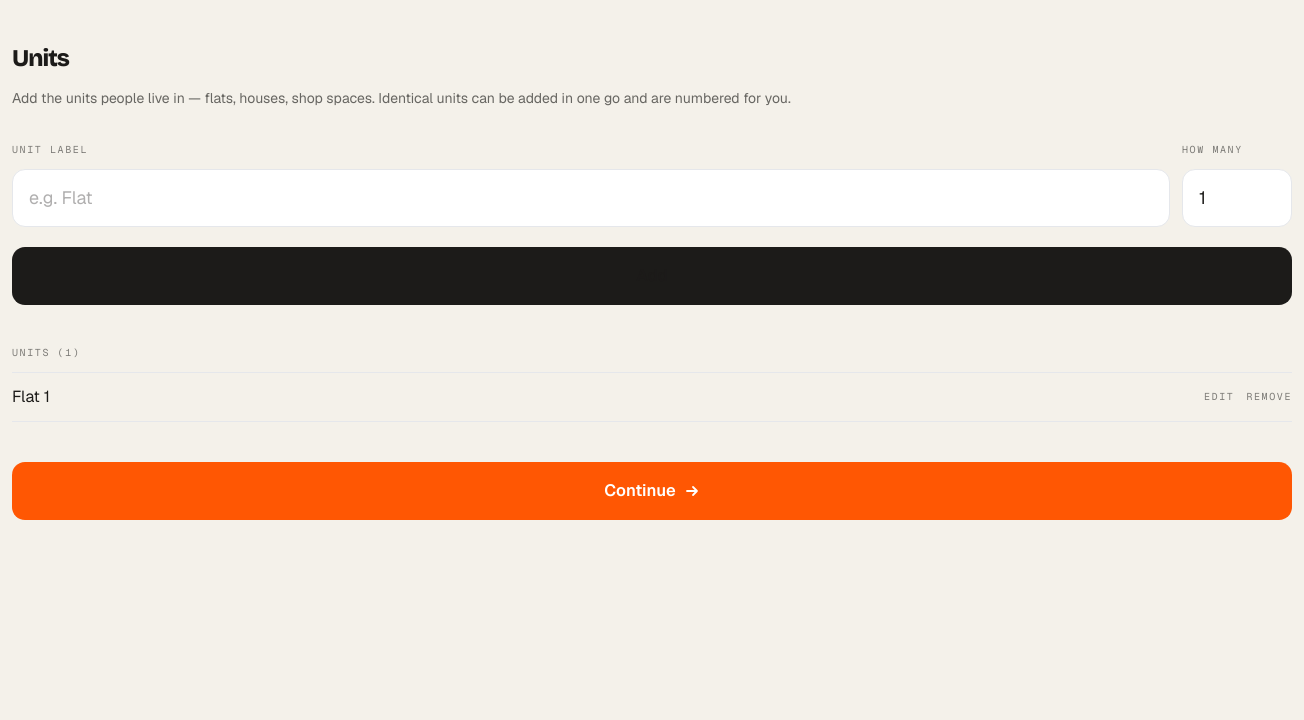
CommunityUnitsStep › retries once after a 409 conflict by refetching and renumbering
Expected: the heading "Units (1)" is shown, left=12, top=346, right=80, bottom=359
Type "Flat" into the field labelled "Unit label".
click(591, 198); type("Flat")  # box left=12, top=169, right=1170, bottom=227
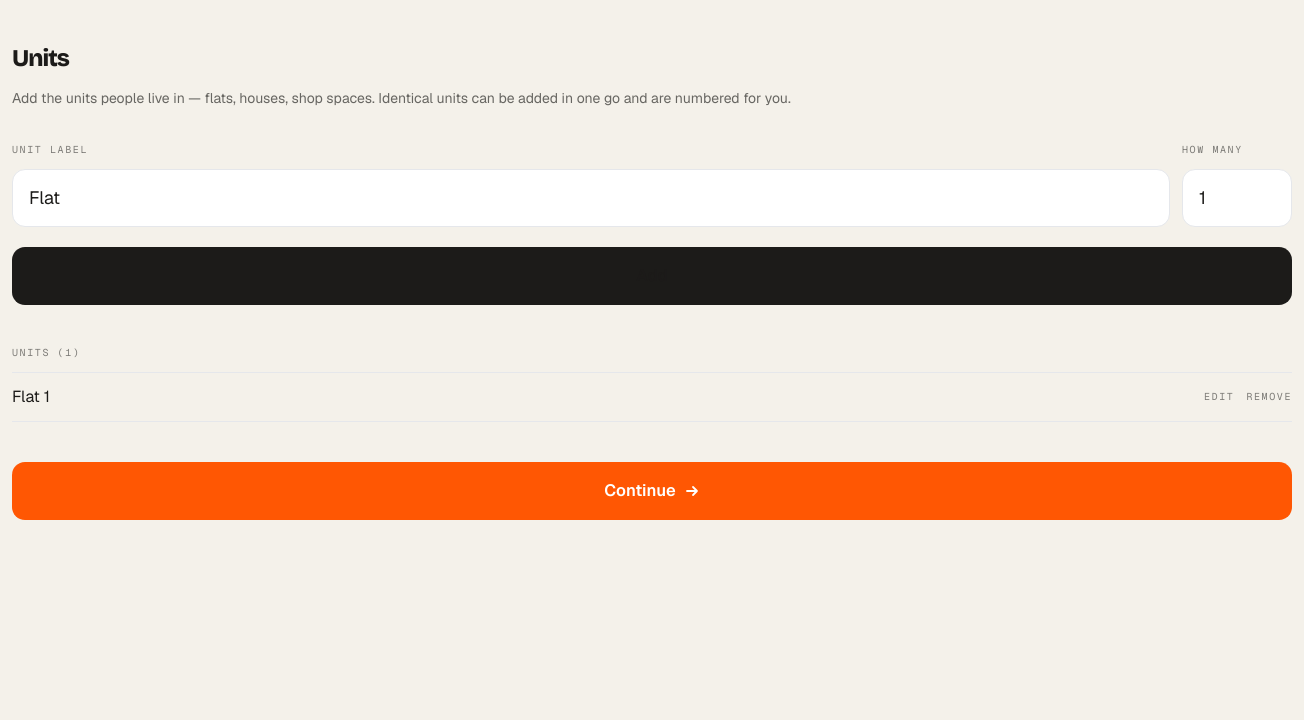
Replace the text in the number field labelled "How many" with "2" at (1237, 198), box left=1182, top=169, right=1292, bottom=227
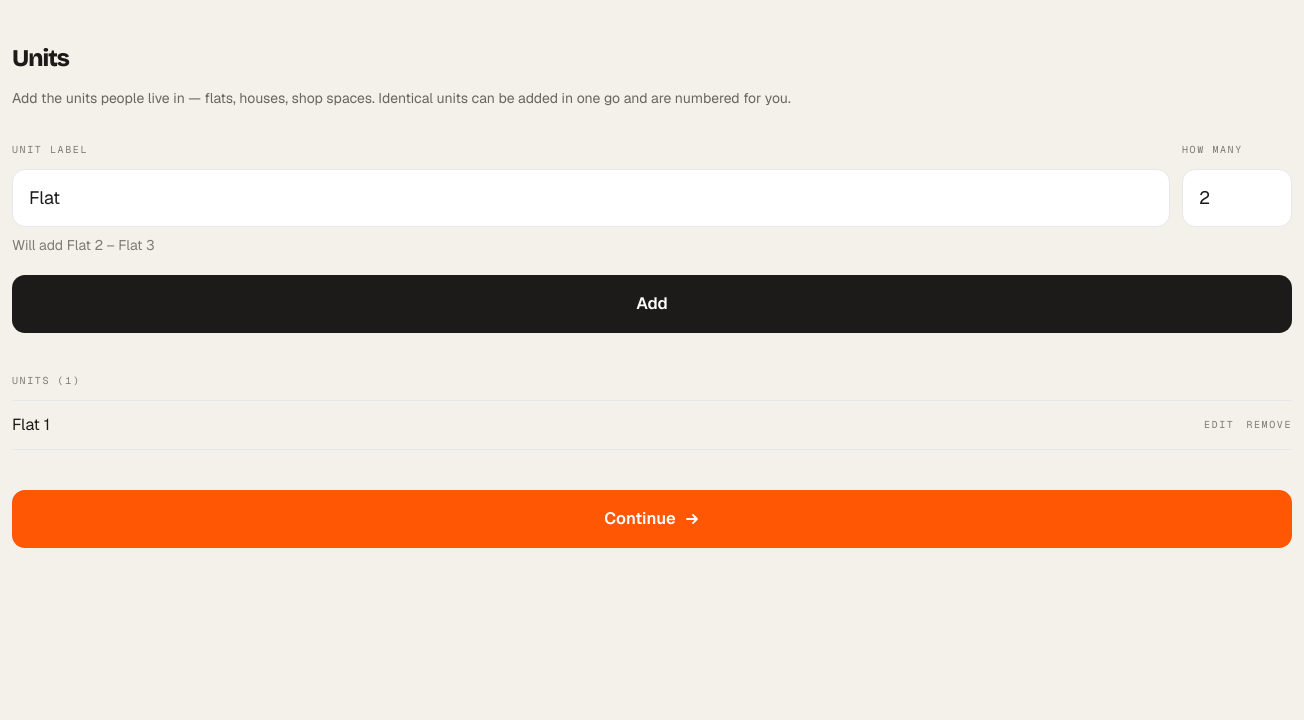
Result: the button "Add" is enabled
Click the button "Add".
click(652, 304)  # box left=12, top=275, right=1292, bottom=333
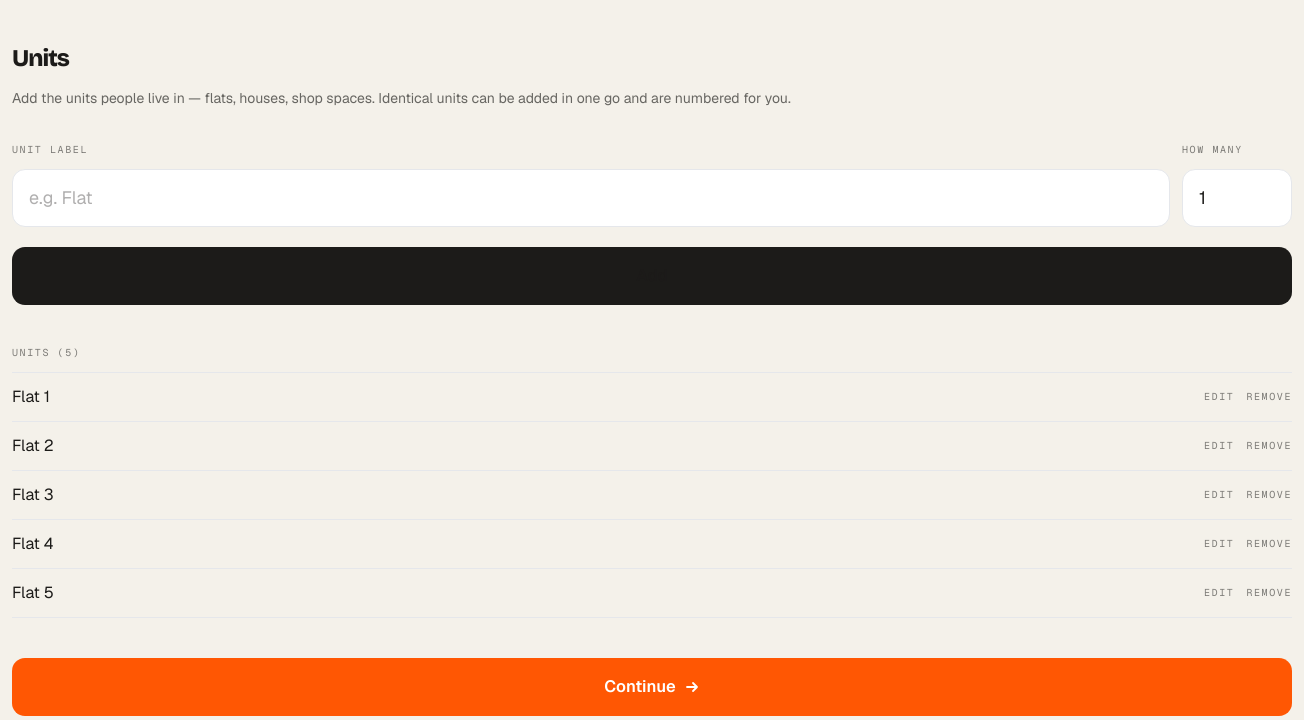
Result: the heading "Units (5)" is shown at left=12, top=346, right=80, bottom=359
